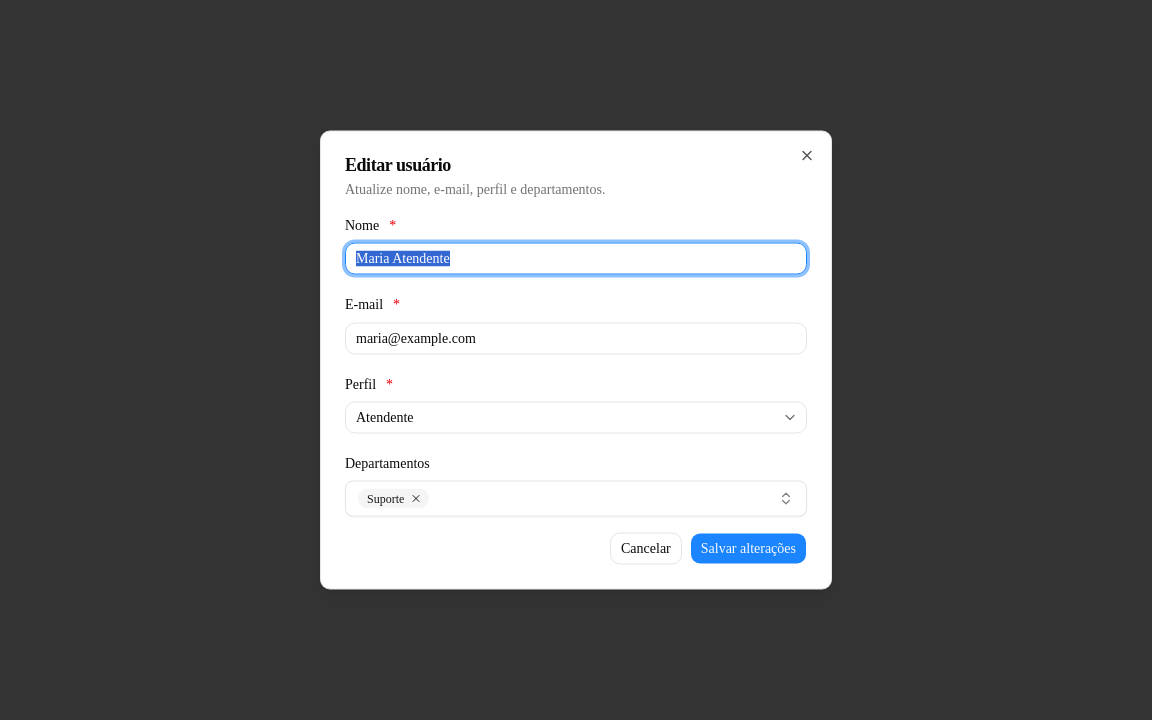
Test: UserDialog › valida nome com mínimo de 2 caracteres
Step 1. Replace the text in the field labelled "Nome *" with "M" → (576, 259), box x1=345 y1=243 x2=807 y2=275
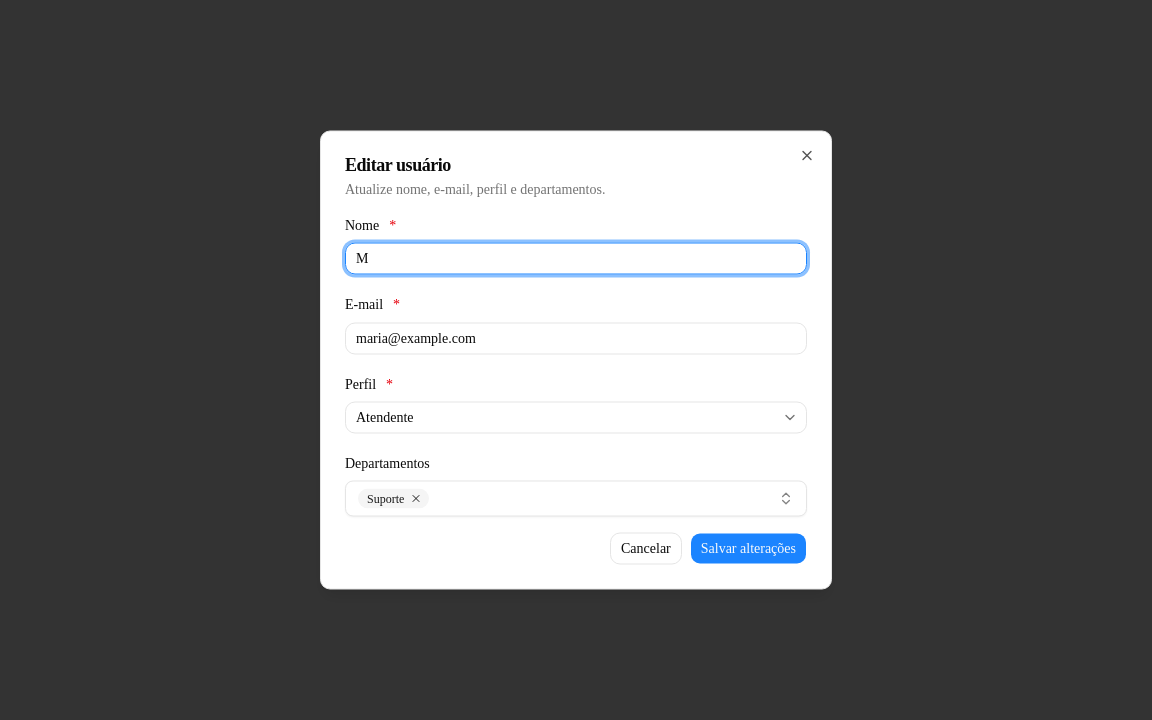
Step 2. Click the button "Salvar alterações" → (748, 548), box x1=690 y1=532 x2=807 y2=564
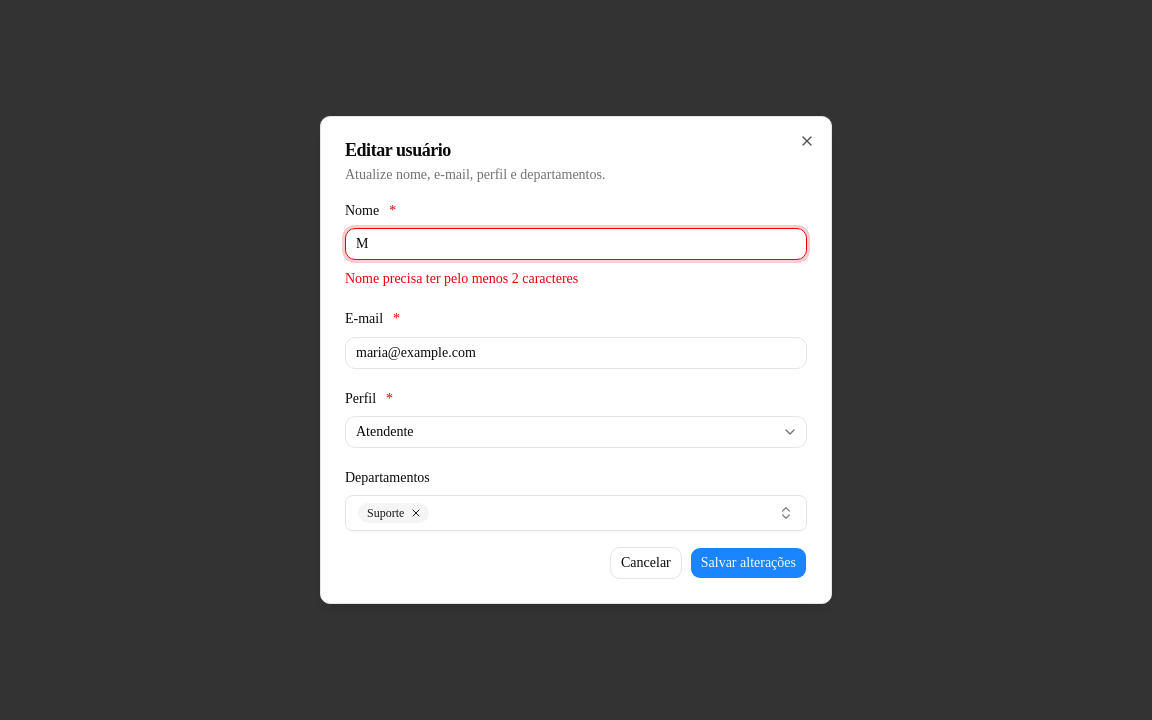
Now the text "Nome precisa ter pelo menos 2 caracteres" is shown, box x1=345 y1=271 x2=578 y2=286
